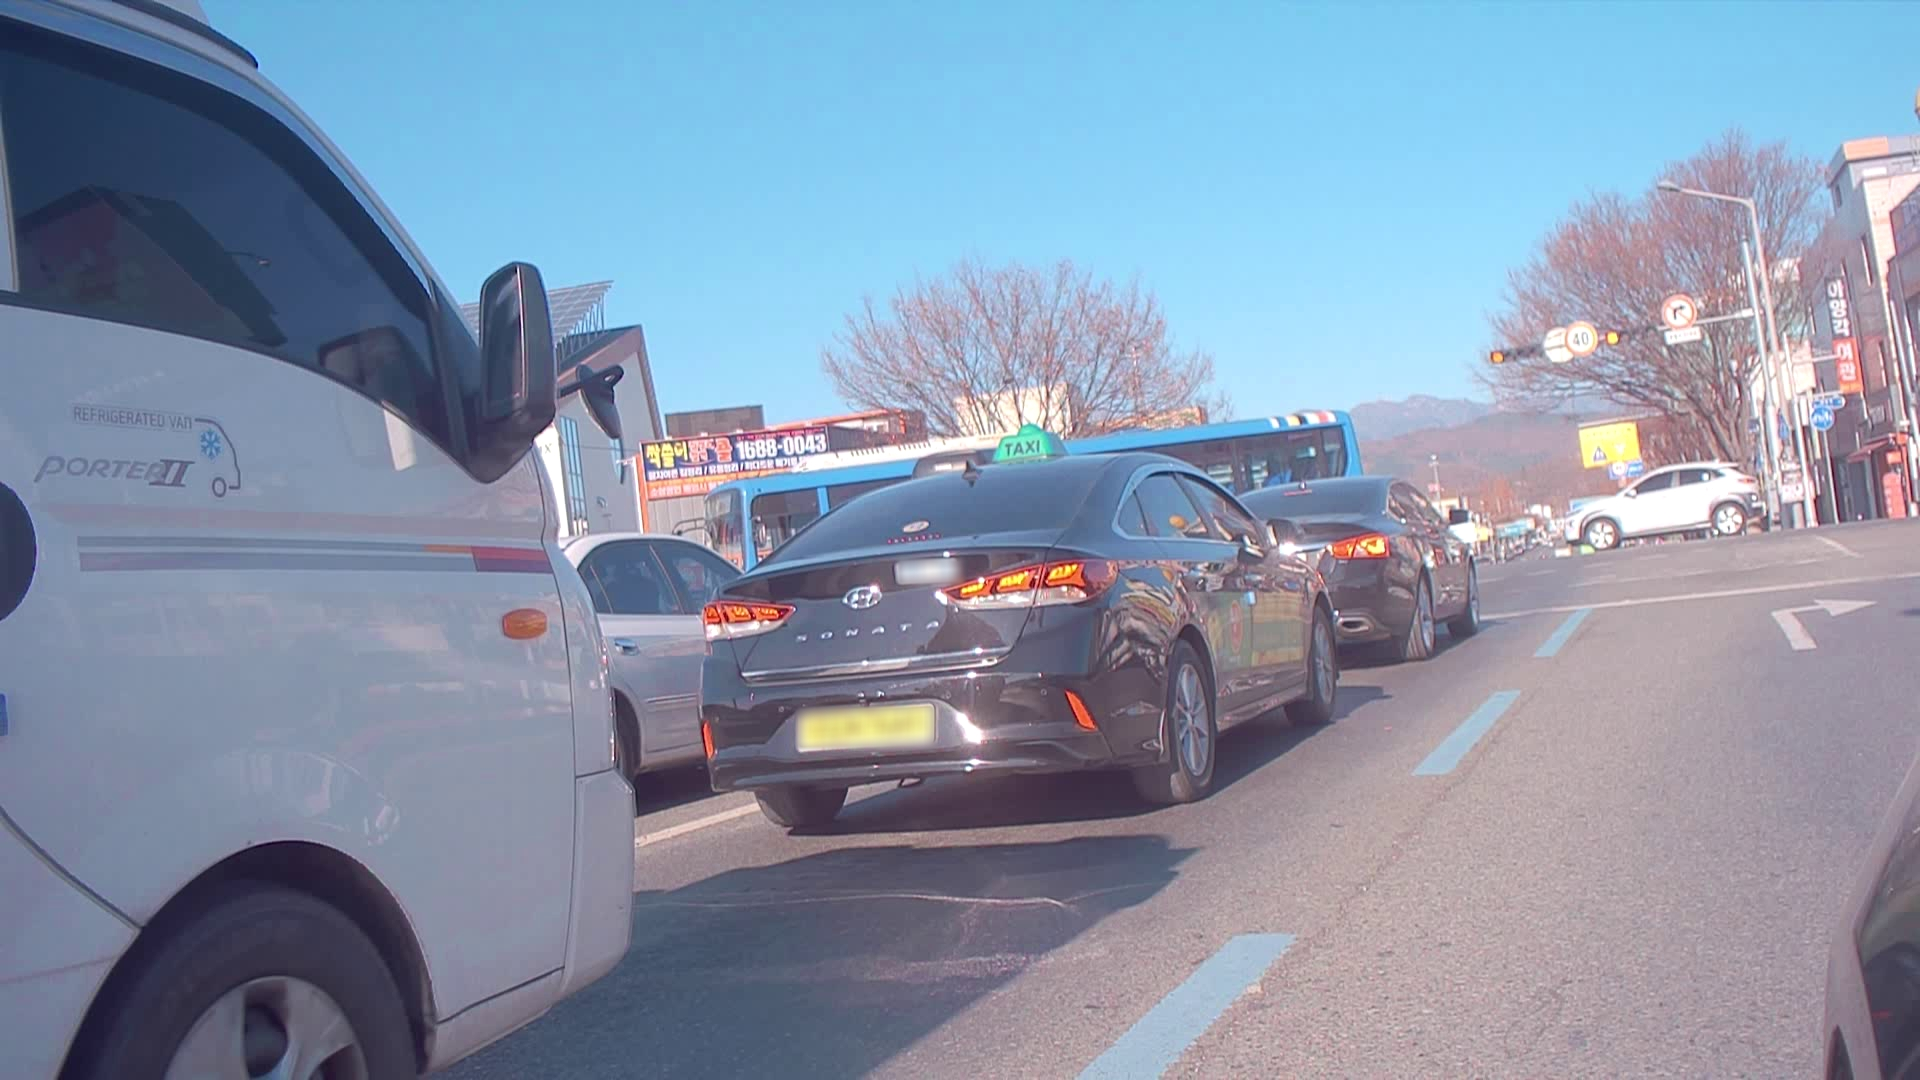trafficLight: (1487, 344, 1543, 367), (1602, 324, 1659, 345)
trafficSignCircle: (1662, 290, 1697, 334), (1564, 319, 1596, 357)
trafficSignRTG: (1575, 415, 1644, 473)
